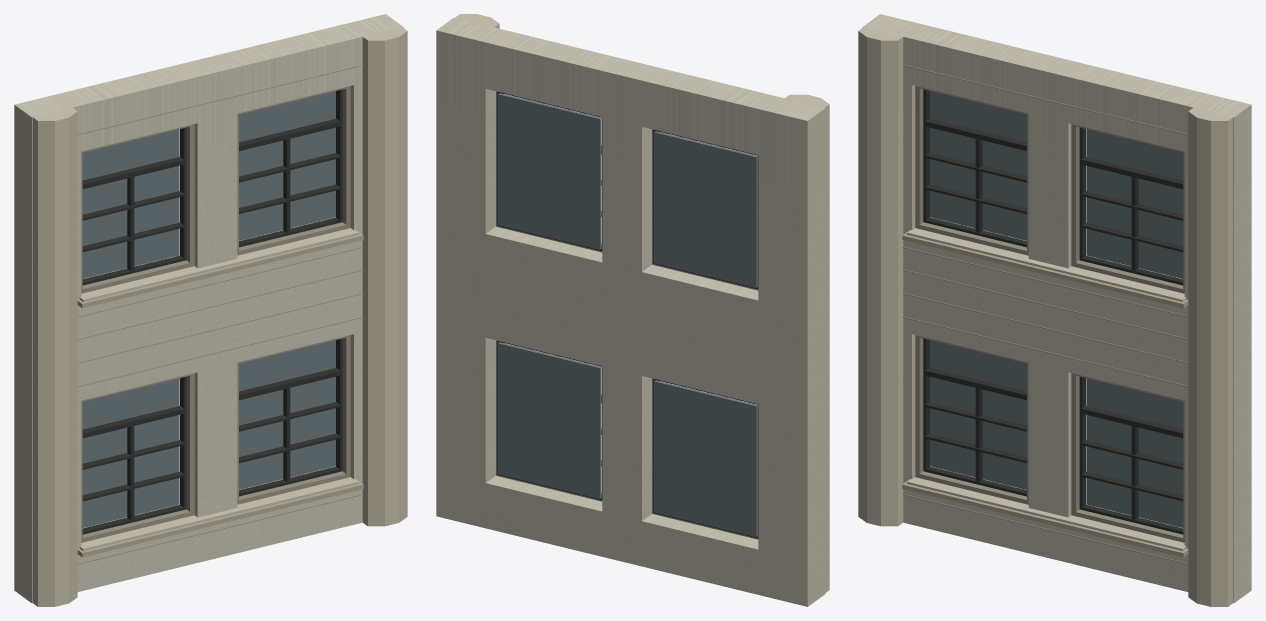
File: huangpu-whiteaway-laidlaw-facade-window-bay-lod.glb
3 renders of one model, left to right at view 1: azimuth 30°, elevation 25°; view 2: azimuth 150°, elevation 25°; view 3: azimuth 330°, elevation 25°, orthographic.
Visible parts, largest first — view 1: 惠罗公司大楼沿街竖带与横梃格窗; view 2: 惠罗公司大楼沿街竖带与横梃格窗; view 3: 惠罗公司大楼沿街竖带与横梃格窗.
Part boxes in pixels (x1,y1,x2,y2): 惠罗公司大楼沿街竖带与横梃格窗: (14,14,407,606); 惠罗公司大楼沿街竖带与横梃格窗: (436,14,829,606); 惠罗公司大楼沿街竖带与横梃格窗: (858,14,1251,606).
Size of the model in its own units: 4.12 by 5.15 by 0.518.
Materials: 7 (1 with a texture image).
